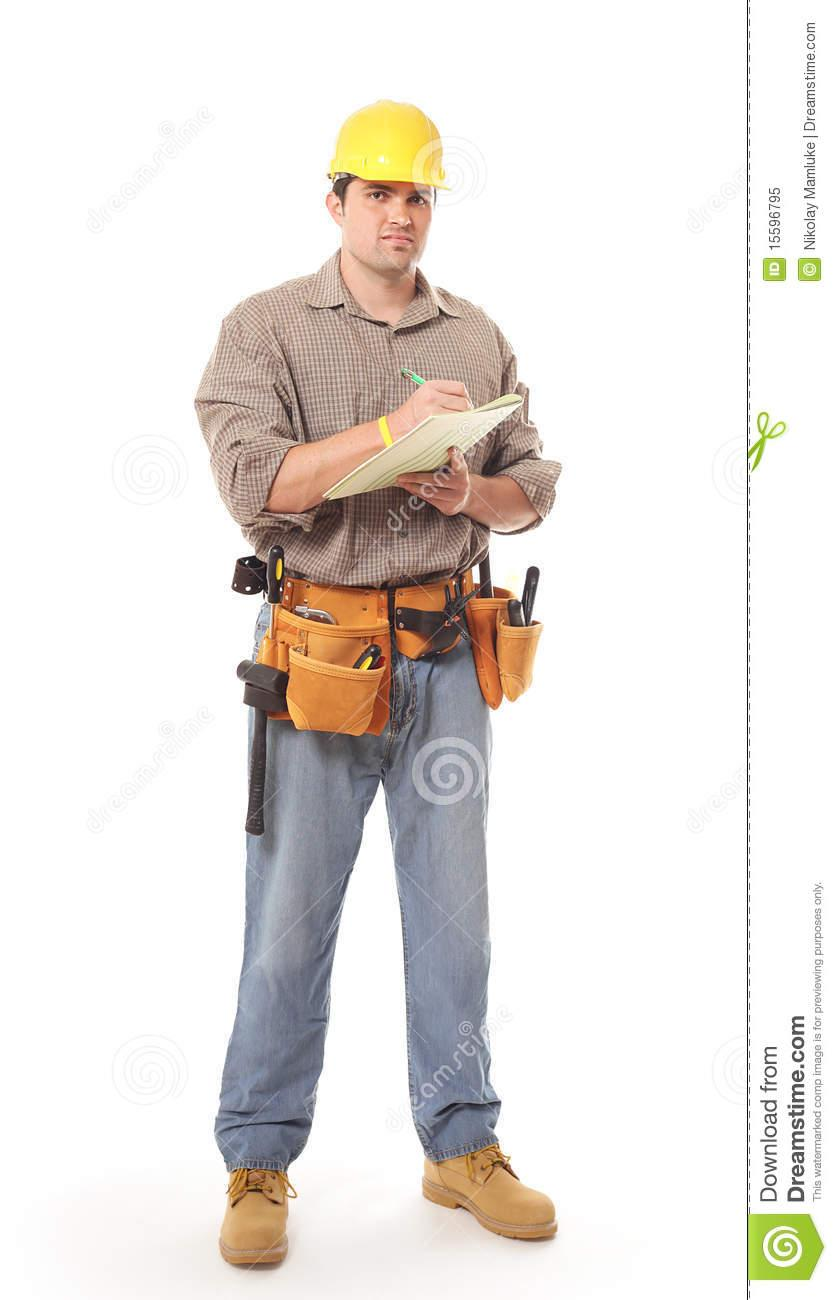helmet: (331, 102, 451, 190)
